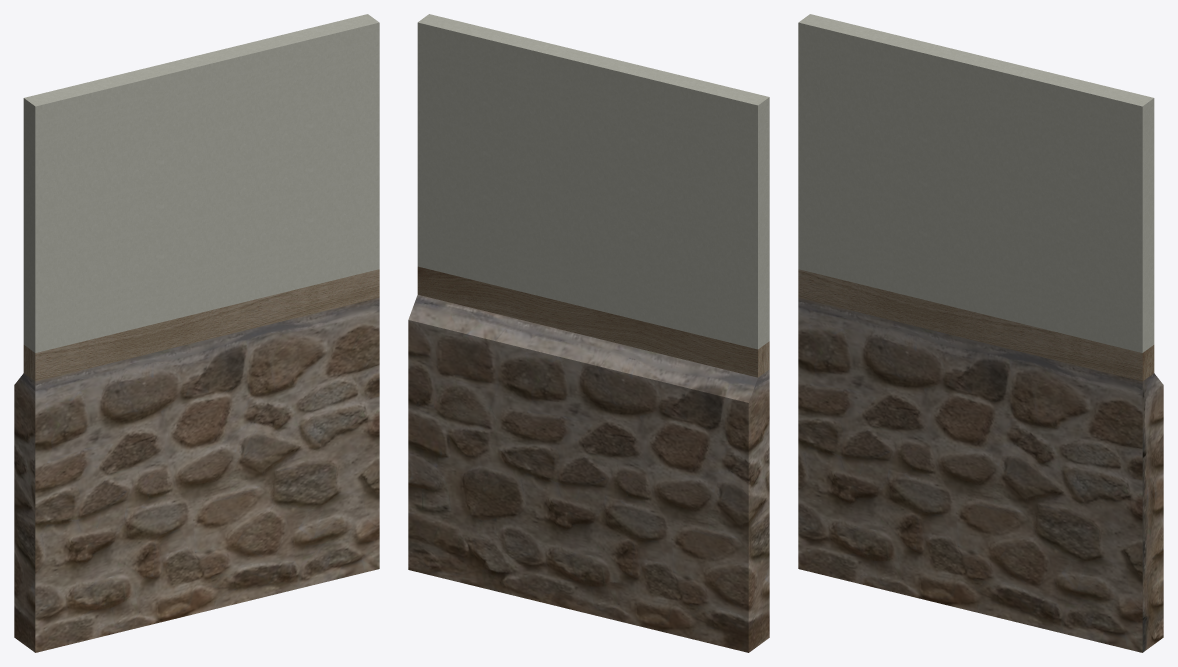
The model's file is SM_Sun_Toilet_Wall_D.fbx.
3 views of the same model, side by side, from view 1: azimuth 30°, elevation 25°; view 2: azimuth 150°, elevation 25°; view 3: azimuth 330°, elevation 25° (orthographic).
Parts seen in each view (by area): view 1: SM_Sun_Toilet_Wall_D; view 2: SM_Sun_Toilet_Wall_D; view 3: SM_Sun_Toilet_Wall_D.
Part boxes in pixels (x1,y1,x2,y2): SM_Sun_Toilet_Wall_D: [14, 14, 379, 652]; SM_Sun_Toilet_Wall_D: [408, 14, 769, 652]; SM_Sun_Toilet_Wall_D: [798, 14, 1163, 652].
Size of the model in its own units: 170 by 258 by 18.
